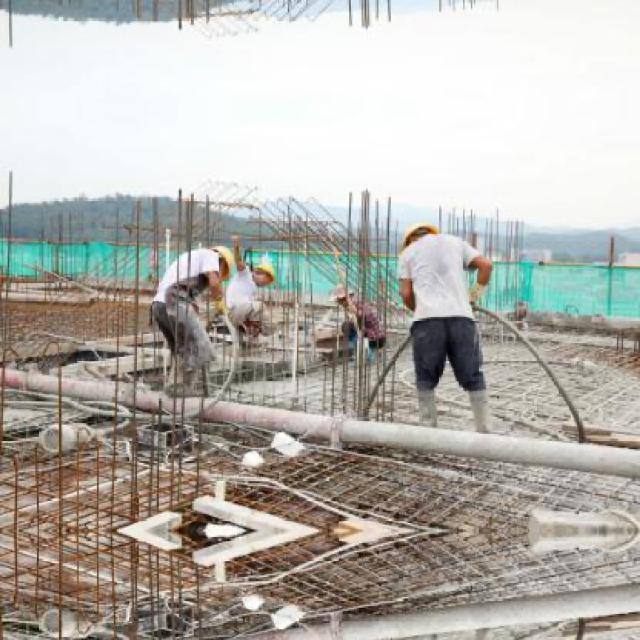con casco: (368, 208, 455, 280), (188, 216, 266, 287), (243, 255, 286, 288)
